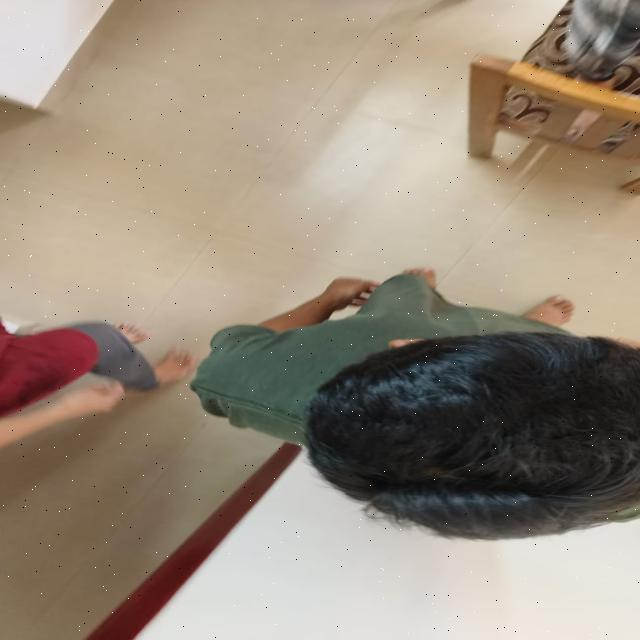humans: (190, 255, 632, 568)
